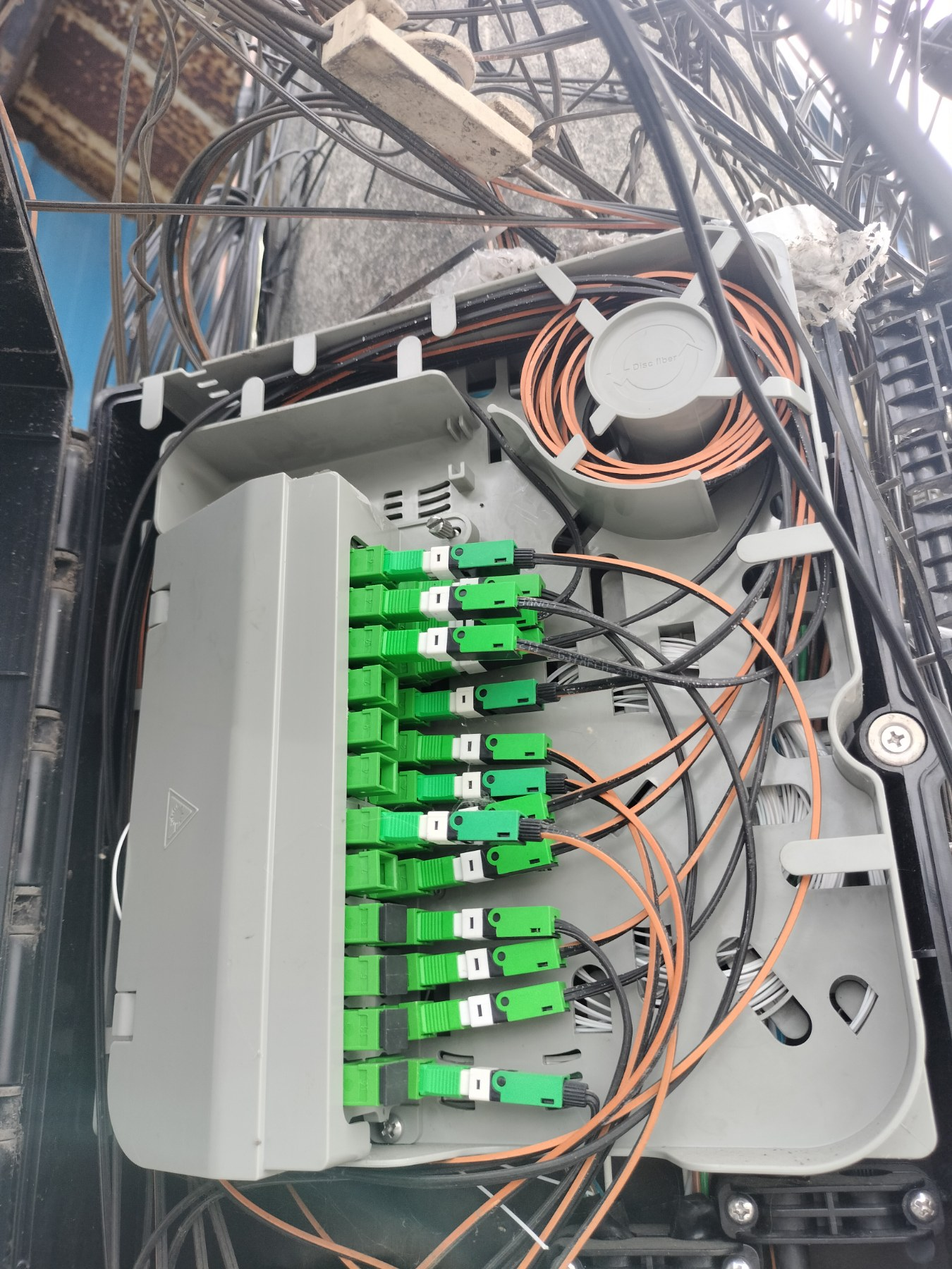no dust cap: (377, 851, 398, 891), (380, 710, 398, 749), (380, 667, 398, 706), (380, 755, 398, 793)
occupied: (420, 977, 575, 1038), (417, 1063, 587, 1117), (411, 787, 556, 845), (419, 624, 551, 679), (414, 835, 558, 885), (380, 810, 550, 852), (420, 937, 567, 985), (411, 675, 564, 719), (382, 537, 534, 581), (381, 581, 529, 622), (418, 766, 575, 804), (418, 905, 561, 945), (382, 624, 524, 662), (415, 732, 559, 769), (418, 597, 547, 637), (417, 572, 553, 604)
vacant: (384, 1065, 410, 1106), (382, 1012, 408, 1049), (382, 958, 408, 995), (381, 905, 407, 942)
